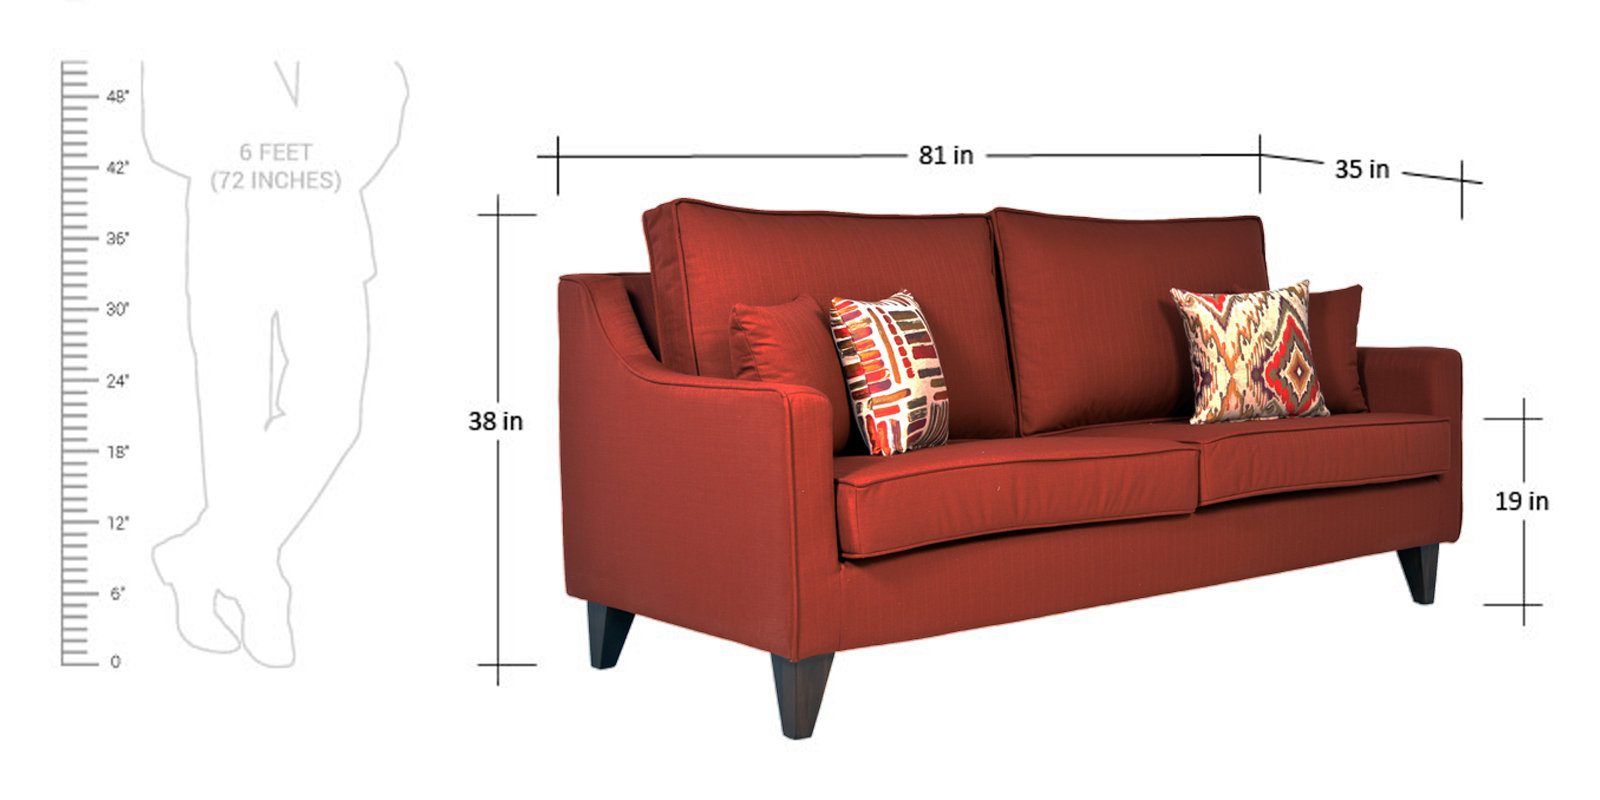Ithaca Impulse Three Seater Sofa with Throw Cushions in Burnt Sienna Colour by U: (535, 187, 1537, 751)
